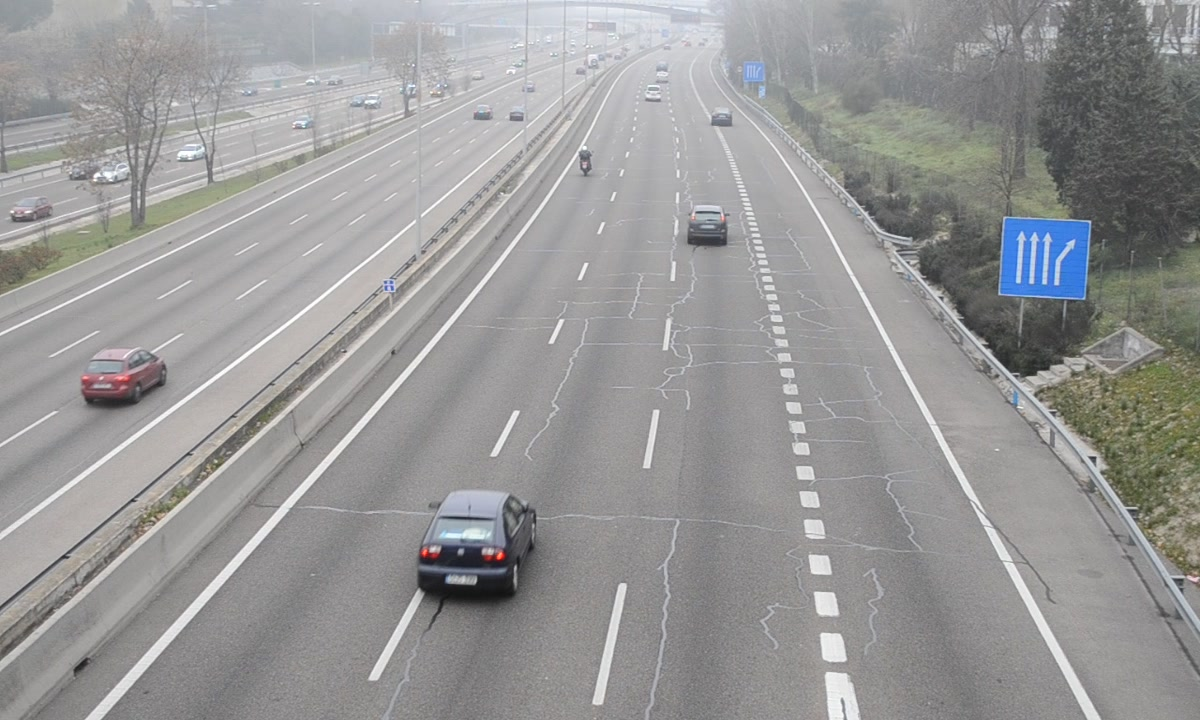car: (416, 490, 538, 598), (687, 205, 726, 245), (711, 108, 732, 127)
motorcycle: (578, 144, 594, 179)
